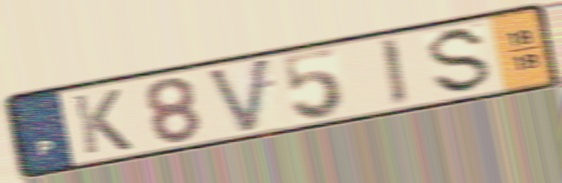5: (279, 44, 347, 123)
8: (140, 74, 206, 145)
I: (375, 34, 413, 110)
K: (69, 86, 137, 157)
S: (426, 24, 497, 97)
V: (203, 54, 274, 137)
